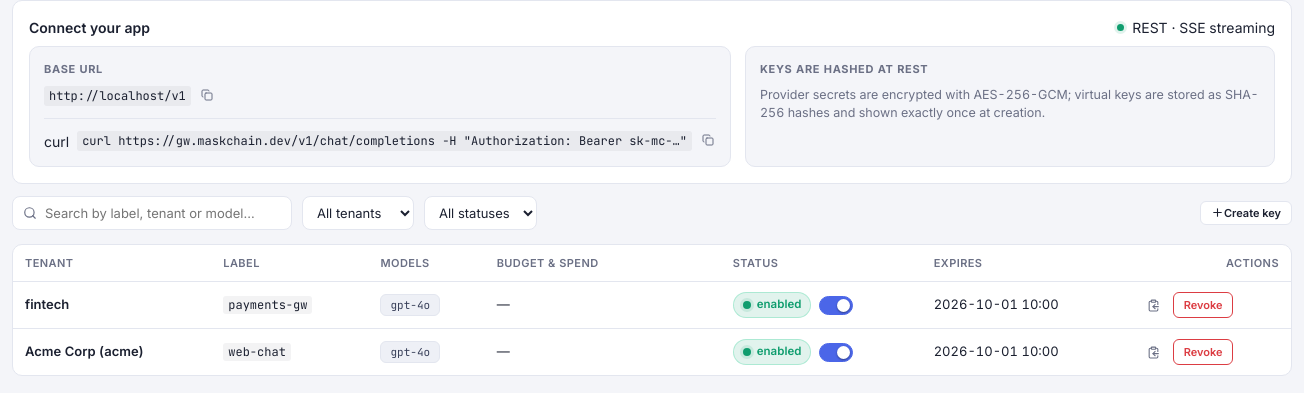
it: Keys search filter › filters rows by search text
The width and height of the screenshot is (1304, 393).
Expected: the text "payments-gw" is shown, [223,296,312,314]
Type "web-chat" into the field with placeholder "Search by label, tenant or model…" at (152, 212), box [12,196,292,230]
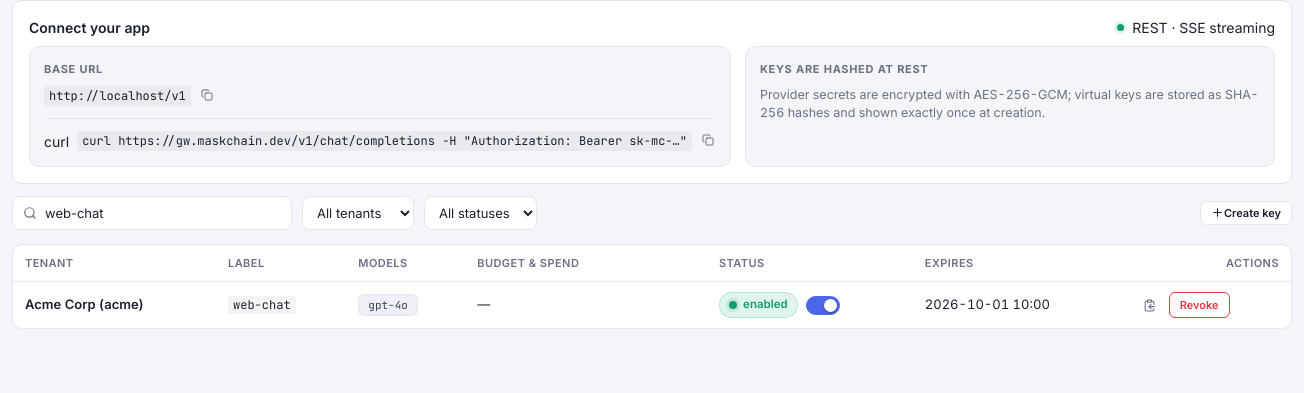
Expected: the text "web-chat" is shown, [228,296,296,314]
Expected: the text "payments-gw" is gone
